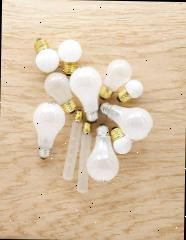lightbulb: (30, 37, 154, 193), (98, 101, 154, 140), (32, 100, 66, 158), (87, 123, 120, 181), (69, 66, 102, 122), (99, 58, 132, 100), (44, 72, 77, 114), (32, 37, 60, 71), (58, 39, 82, 74), (109, 126, 132, 154), (117, 79, 142, 102)
